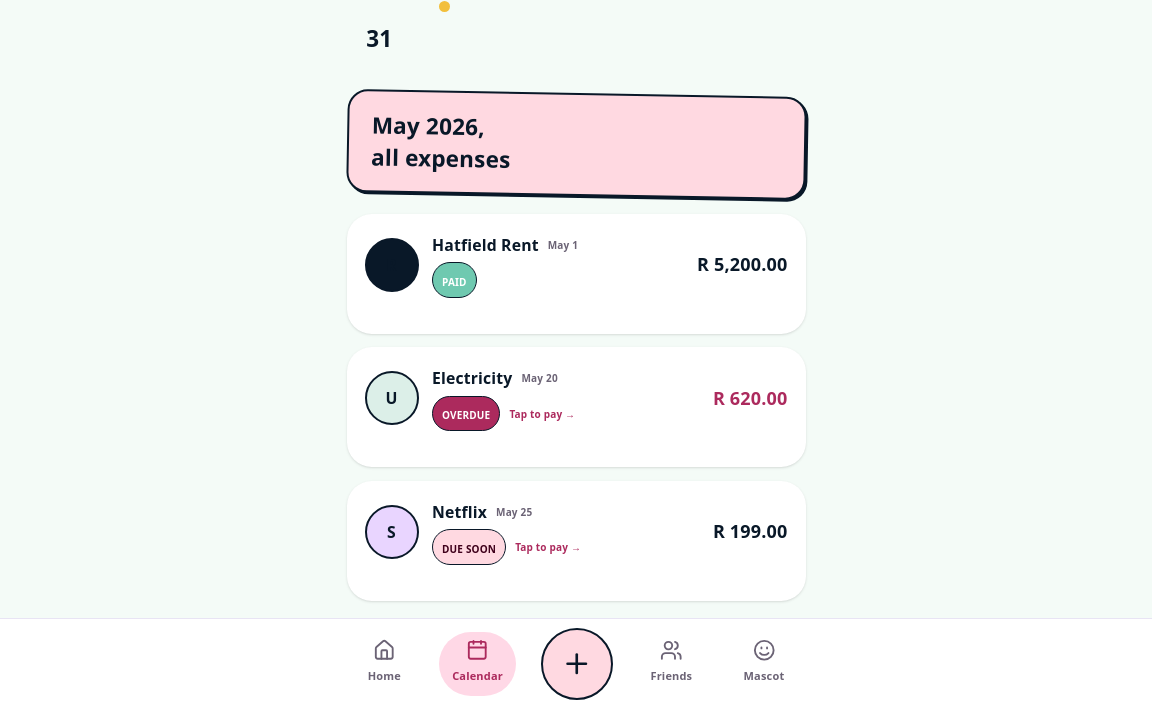
it: CalendarPage integration › shows a loading spinner on the tapped card while the detail fetch is in progress
(page scrolled)
What coordinates should you click on to do the following:
click the button with aria-label "pay netflix"
I would click on:
 (392, 532)
Its box is [364,499,788,565].
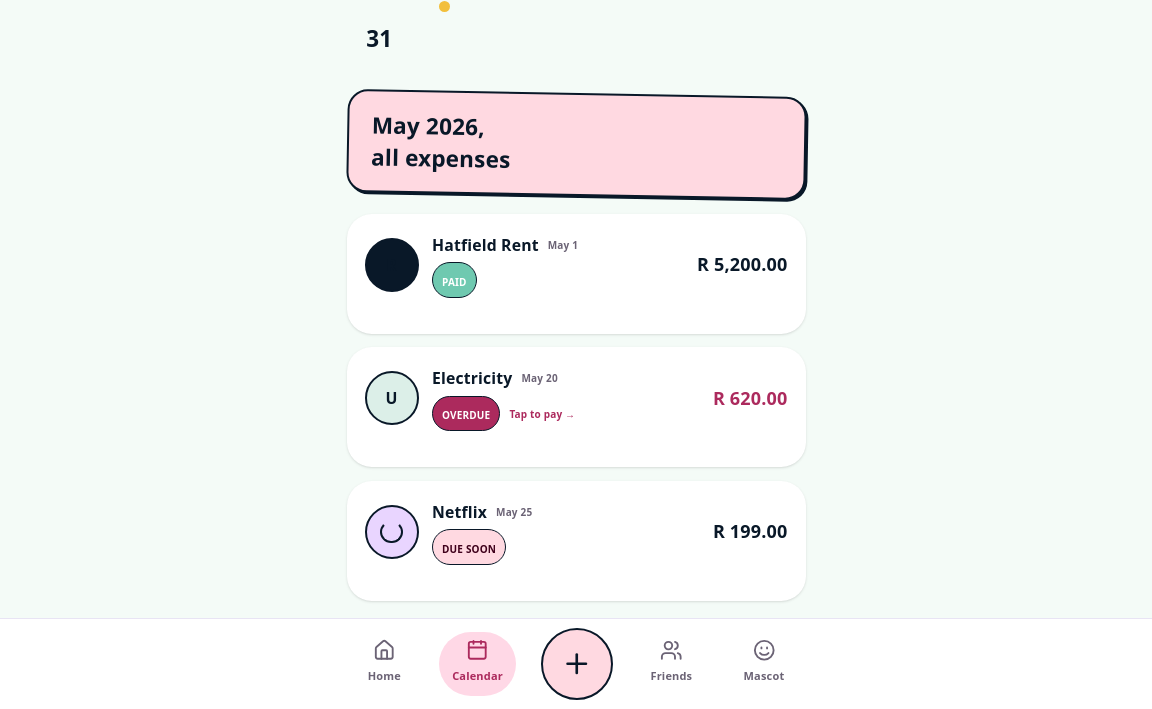
Expected: the element with class "animate-spin" is shown, [380,521,403,543]
